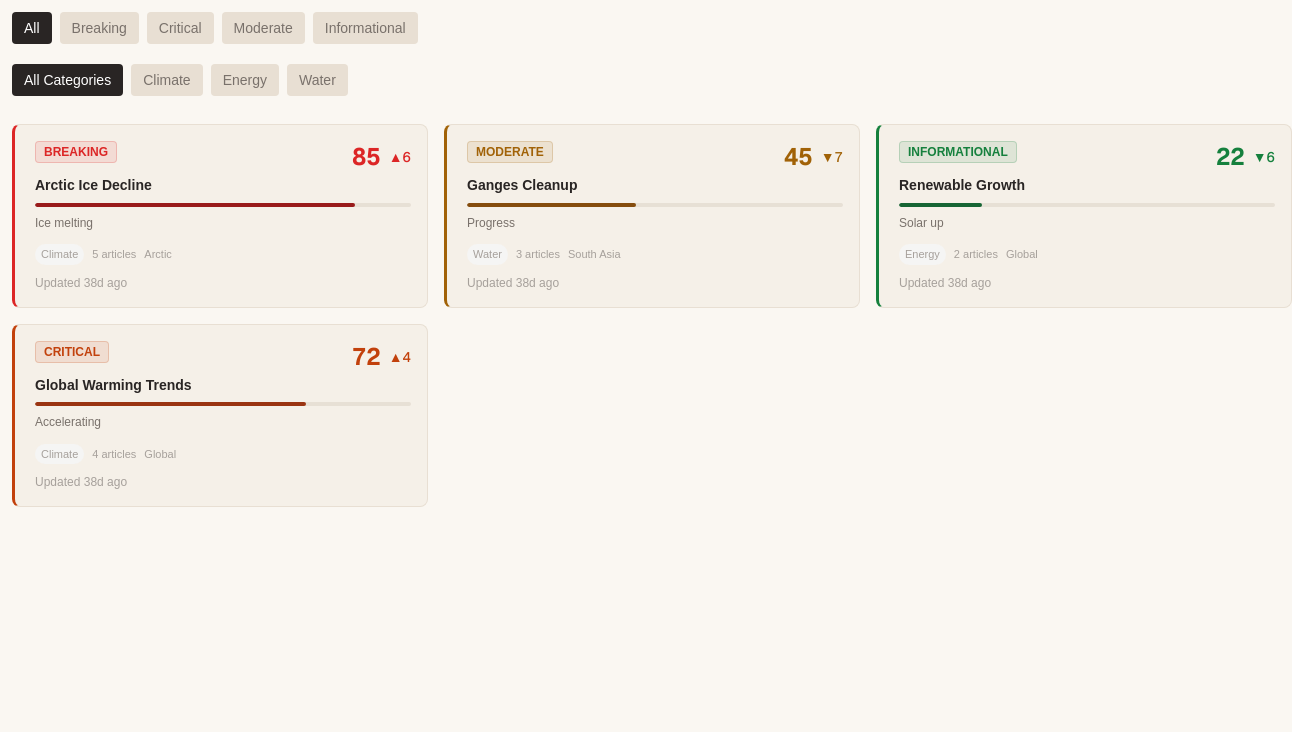
Test case: TopicGrid › clicking category chip filters topics client-side without new fetch
Expected: the heading "Arctic Ice Decline" is shown, [35,177,152,193]
Click the button with test id "filter-category-water" at (317, 80), box [287,64,348,96]
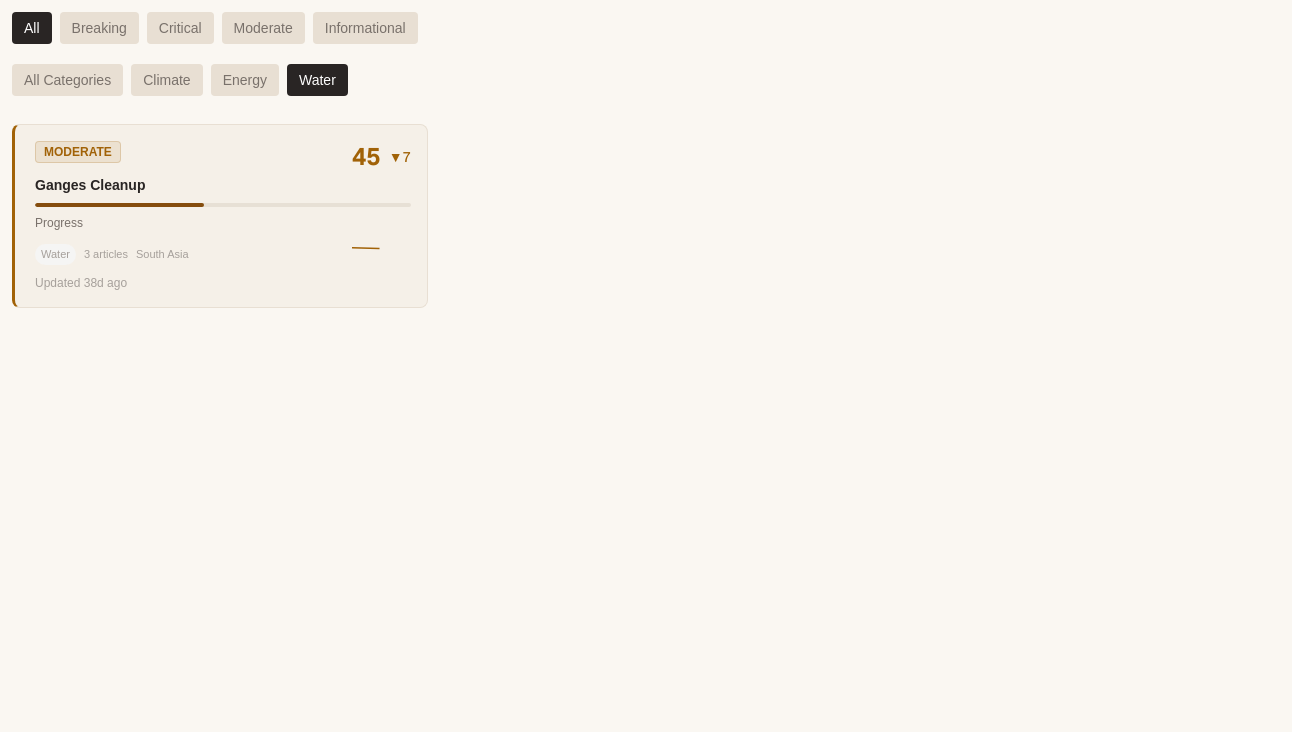
Expected: the heading "Ganges Cleanup" is shown, [35,177,146,193]
Expected: the link "Arctic Ice Decline" is gone
Expected: the link "Renewable Growth" is gone
